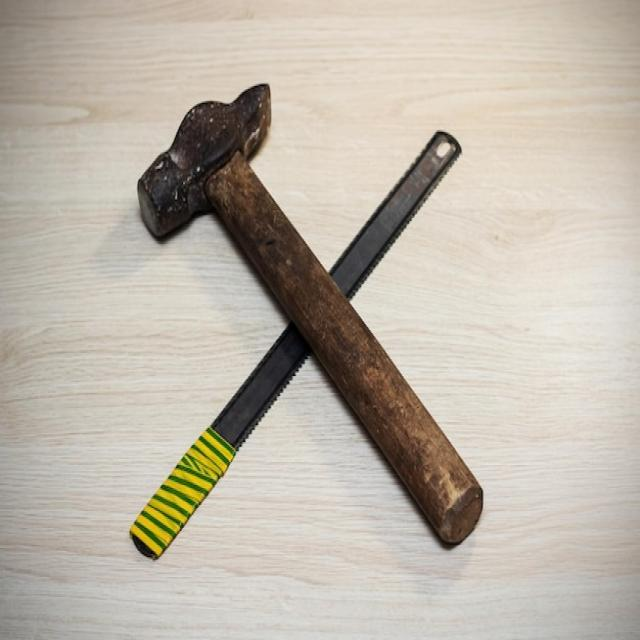hammer: (134, 77, 488, 555)
